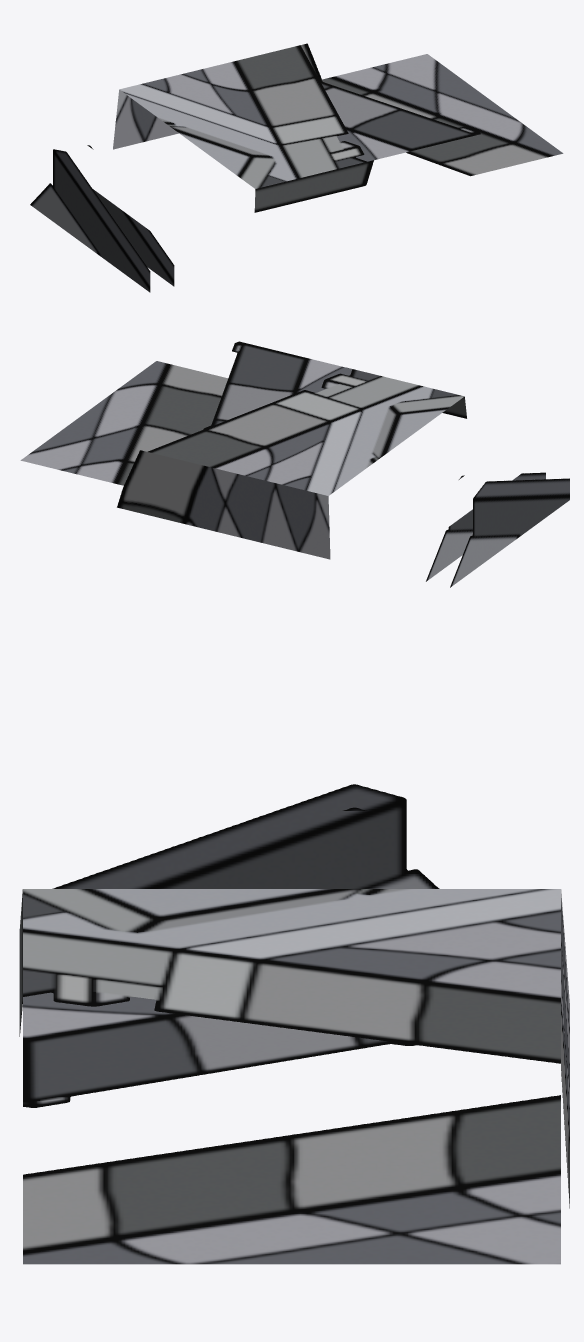
File: Bed.fbx
3 renders of one model, top to bottom at view 1: azimuth 30°, elevation 25°; view 2: azimuth 150°, elevation 25°; view 3: azimuth 270°, elevation 25°, orthographic. The views are drawn at different scales.
Parts seen in each view (by area): view 1: Bed; view 2: Bed; view 3: Bed.
Part boxes in pixels (bbox=[...]): Bed: bbox=[30, 43, 563, 292]; Bed: bbox=[20, 341, 569, 587]; Bed: bbox=[19, 784, 569, 1264].
Size of the model in its own units: 554 by 201 by 323.
